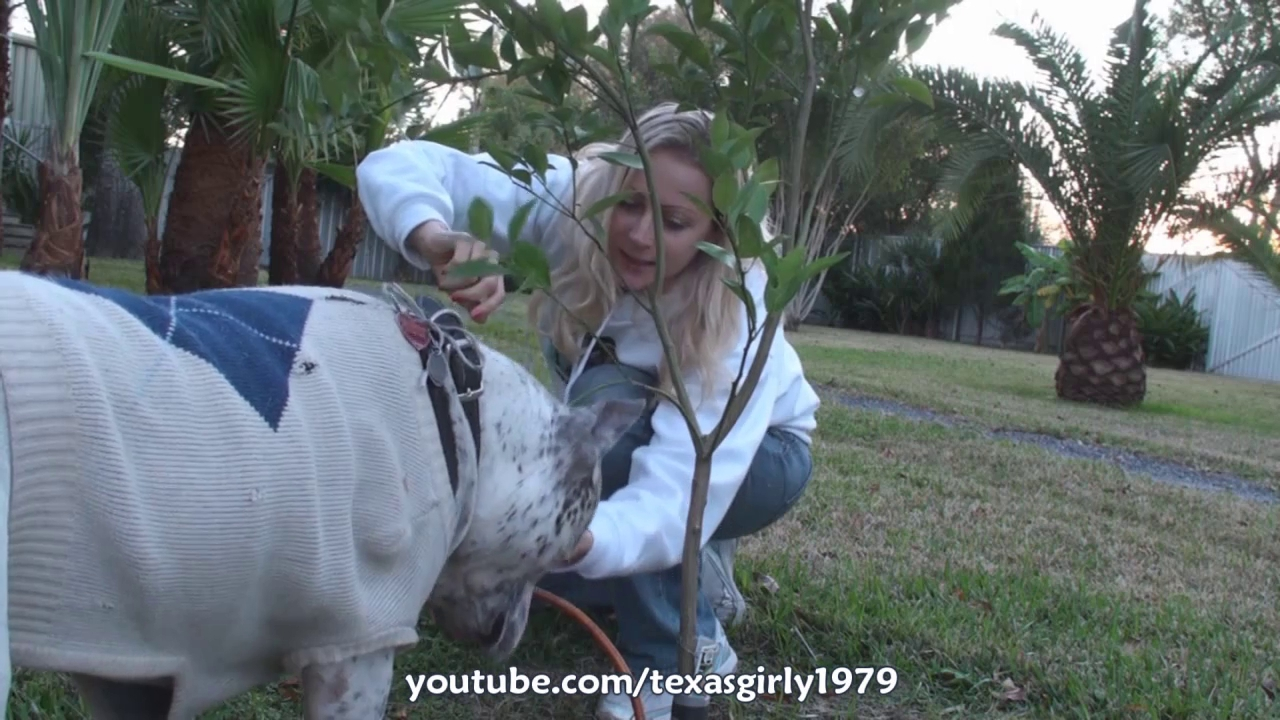person: (356, 101, 820, 720)
